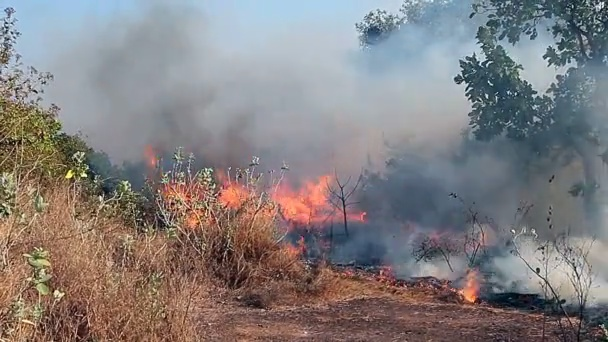fire: (460, 283, 475, 304), (66, 170, 74, 176)
